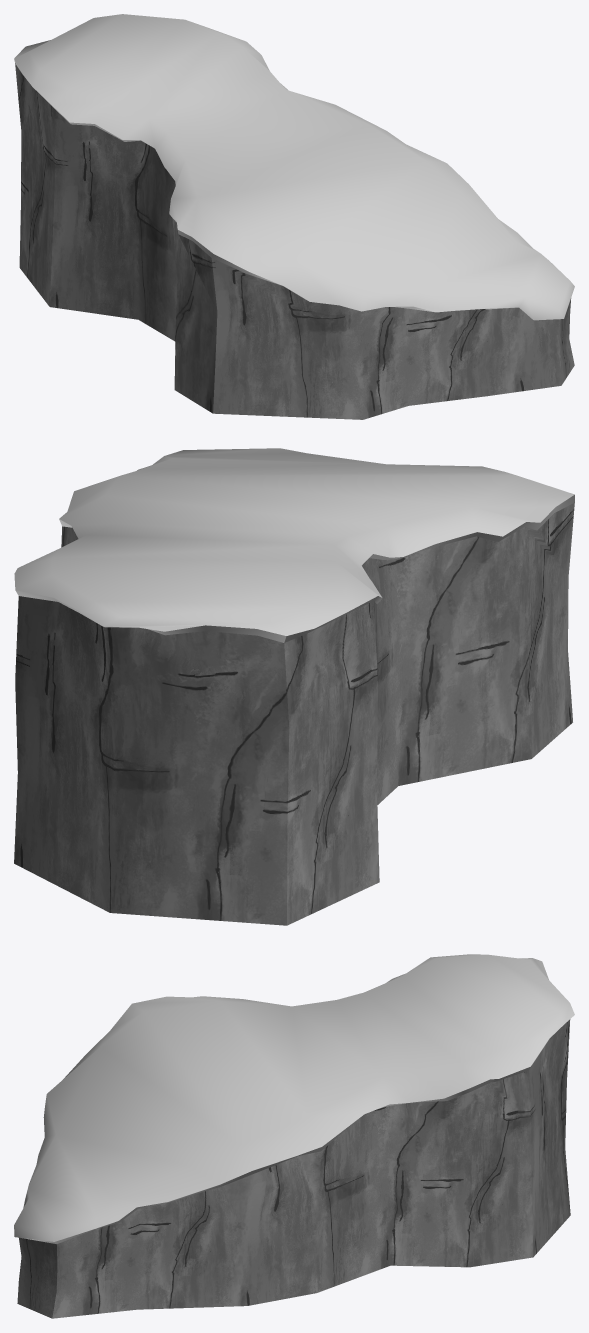
The model's file is CliffWAll_small.fbx.
3 renders of one model, top to bottom at view 1: azimuth 30°, elevation 25°; view 2: azimuth 150°, elevation 25°; view 3: azimuth 270°, elevation 25°, orthographic. The views are drawn at different scales.
Parts seen in each view (by area): view 1: CliffWAll_small; view 2: CliffWAll_small; view 3: CliffWAll_small.
Part boxes in pixels (left/top/right/bottom): CliffWAll_small: left=14, top=14, right=574, bottom=419; CliffWAll_small: left=14, top=448, right=574, bottom=925; CliffWAll_small: left=14, top=954, right=574, bottom=1318.
Size of the model in its own units: 1877 by 1137 by 2739.
